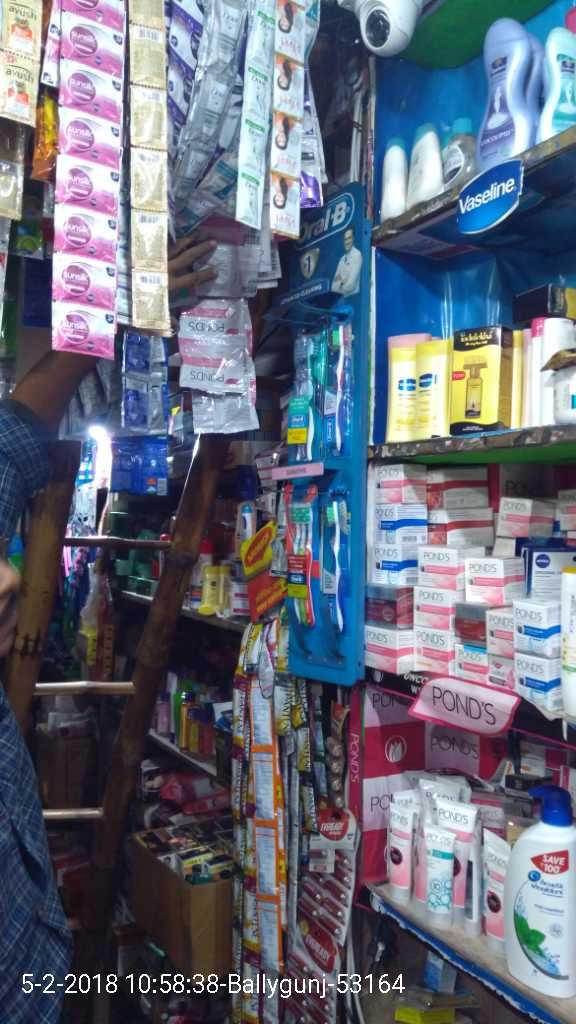oralb: (283, 483, 322, 627), (287, 330, 325, 464), (321, 489, 353, 630), (329, 308, 353, 459)
